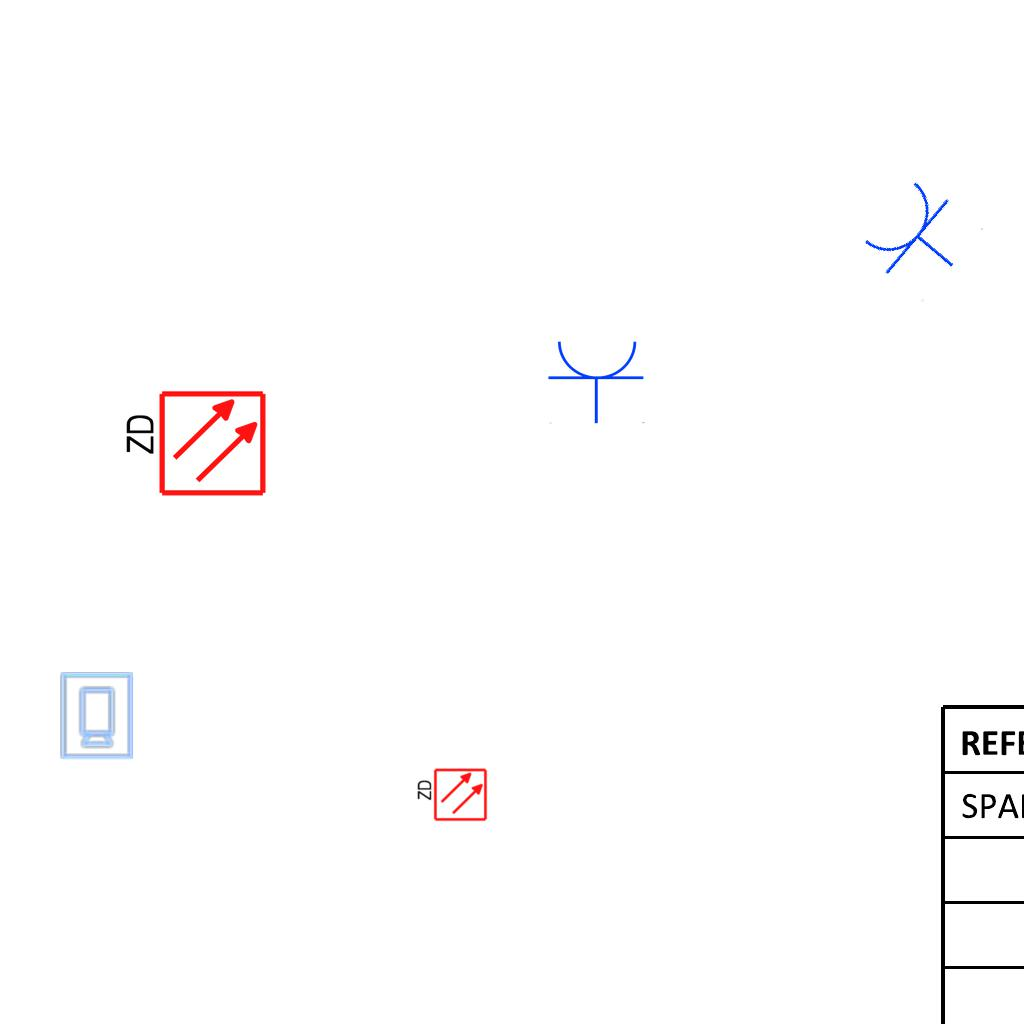KFO_Kamera_mit_Festobjektiv: (58, 670, 135, 761)
Schukosteckdose_einfach: (854, 171, 986, 304), (547, 337, 647, 424)
ZD_Melder_in_Zwischendecke_mit_Revisionsoeffnung_mind_40_x_40_cm: (119, 388, 268, 502), (414, 767, 488, 824)
